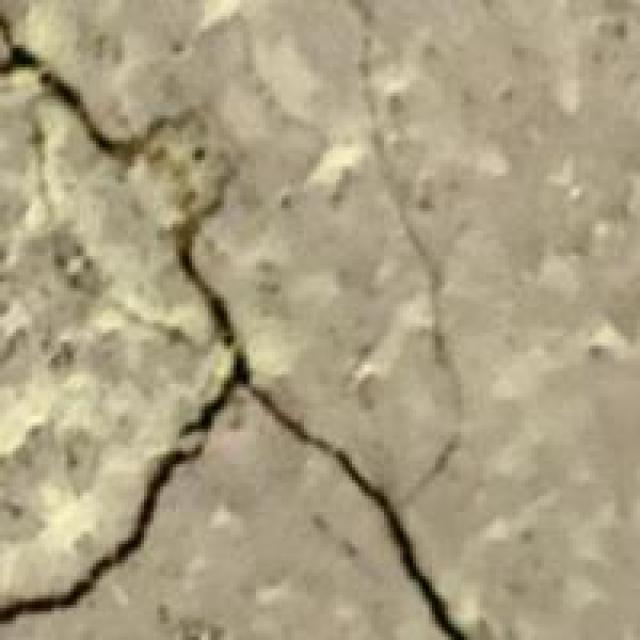crack: (10, 6, 480, 637)
